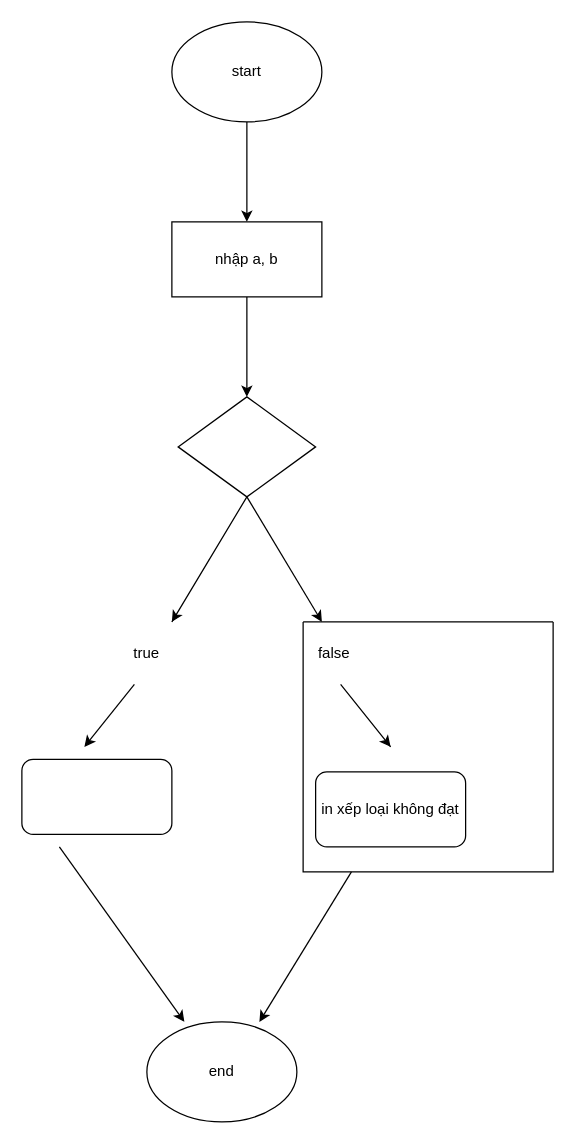
Some shapes in this 575 by 1144 pixel diagram are drawn without their labels. Here are the shapes that lost their labels. From the top down, the centre of each, then its label:
At (x=246, y=446): "5<=a".
At (x=96, y=796): "in xếp loại đạt".
